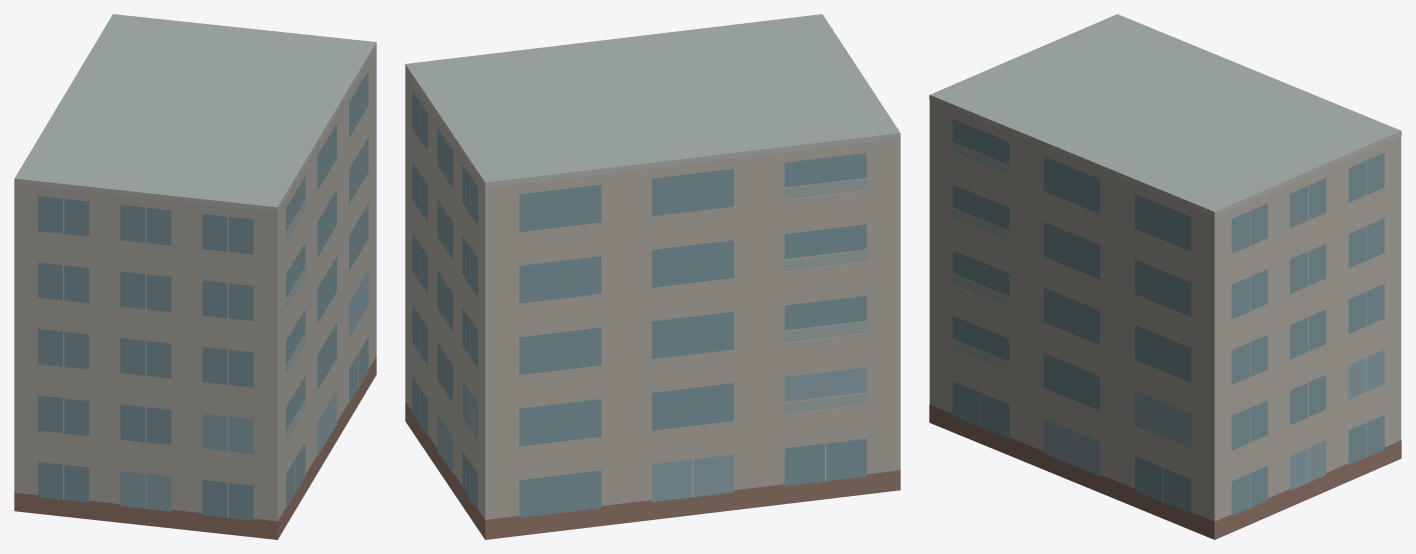
Rendered from survey-upis-32987807.glb.
3 views of the same model, side by side, from view 1: azimuth 30°, elevation 25°; view 2: azimuth 150°, elevation 25°; view 3: azimuth 270°, elevation 25° (orthographic). The views are drawn at different scales.
Parts seen in each view (by area): view 1: survey-upis-32987807.tmp; view 2: survey-upis-32987807.tmp; view 3: survey-upis-32987807.tmp.
Part boxes in pixels (left/top/right/bottom): survey-upis-32987807.tmp: left=14, top=14, right=376, bottom=539; survey-upis-32987807.tmp: left=405, top=14, right=900, bottom=539; survey-upis-32987807.tmp: left=929, top=14, right=1401, bottom=539.
Size of the model in its own units: 19.76 by 15.25 by 19.9.
